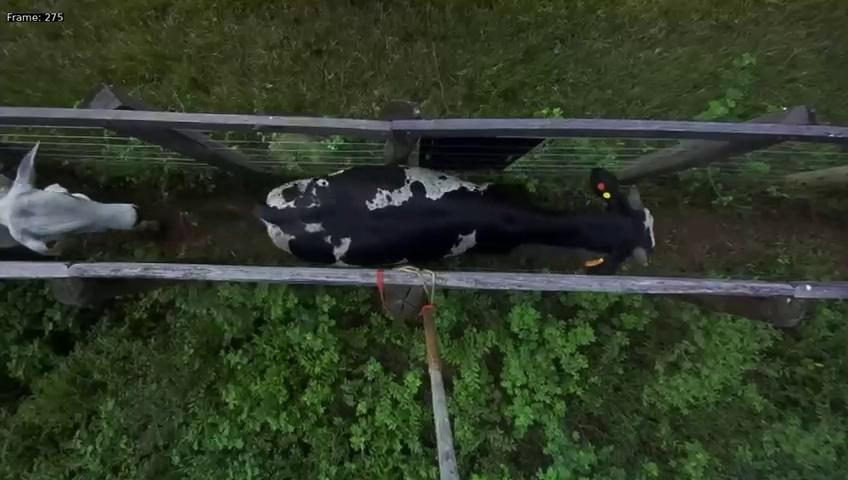cattle: (249, 154, 662, 280)
